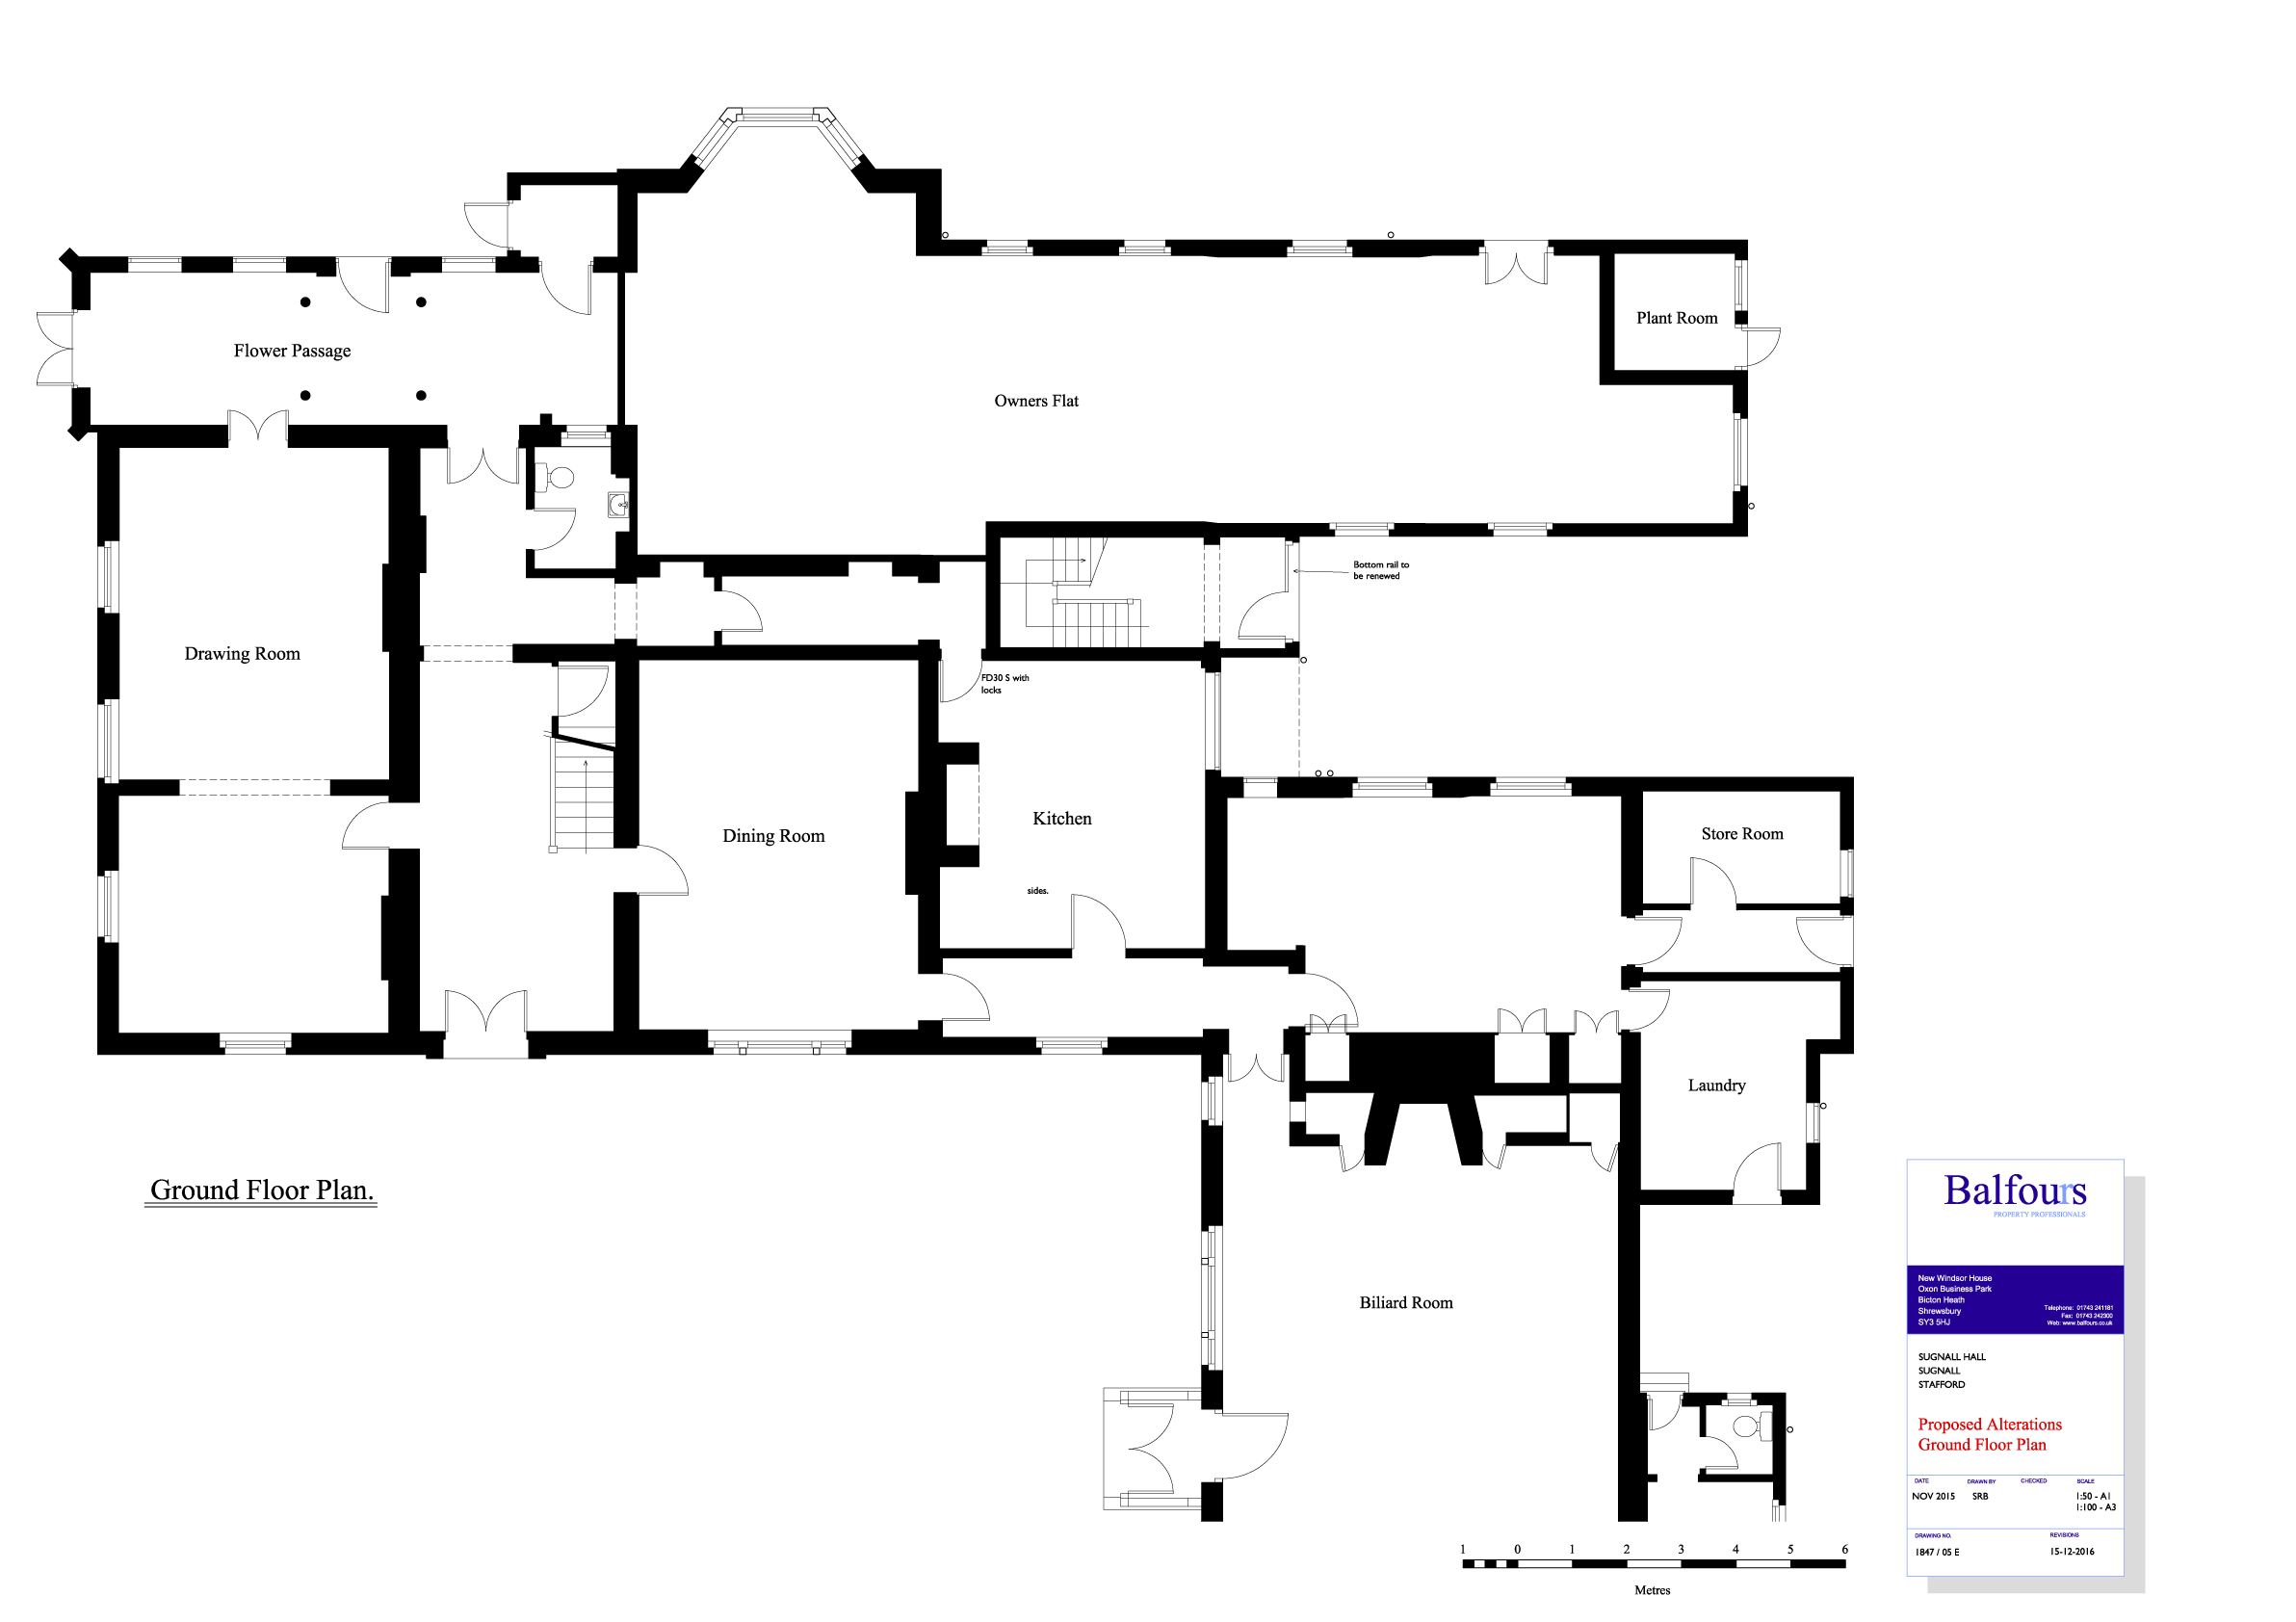wall: (1620, 1029, 1647, 1517), (386, 430, 411, 793), (1561, 772, 1862, 799), (384, 853, 420, 1051), (918, 642, 937, 972), (525, 1030, 718, 1062), (853, 1030, 1044, 1062), (983, 644, 1223, 669), (987, 516, 1227, 541), (1625, 967, 1855, 992), (1206, 772, 1232, 964), (1545, 516, 1747, 539), (1548, 237, 1747, 260), (704, 548, 850, 578), (293, 421, 444, 449), (93, 425, 130, 537), (1615, 772, 1645, 911), (916, 939, 1073, 965), (1166, 232, 1292, 263), (607, 425, 646, 525), (618, 642, 635, 851), (611, 272, 635, 420), (93, 1025, 214, 1055), (916, 156, 951, 258), (1195, 1127, 1229, 1229), (1597, 235, 1618, 391), (516, 642, 641, 669), (616, 895, 635, 1057), (1592, 363, 1748, 383), (611, 177, 644, 265), (293, 1032, 437, 1051), (1427, 772, 1510, 806), (718, 642, 937, 655), (616, 163, 697, 197), (95, 425, 225, 444), (504, 169, 621, 190), (95, 941, 116, 1055), (1617, 1188, 1740, 1206), (95, 779, 118, 872), (1216, 520, 1324, 539), (1341, 239, 1487, 253), (867, 165, 939, 193), (93, 774, 174, 799), (1399, 516, 1490, 537), (904, 843, 976, 869), (1029, 235, 1123, 255), (1109, 1036, 1222, 1051), (1773, 1392, 1789, 1504), (1281, 772, 1353, 797), (1211, 953, 1302, 972), (328, 781, 425, 799), (70, 248, 128, 276), (1506, 1130, 1585, 1150), (909, 233, 987, 253), (65, 251, 93, 304), (1799, 1043, 1824, 1102), (925, 739, 978, 765), (1213, 644, 1301, 660), (390, 253, 442, 279), (521, 567, 621, 579), (283, 253, 335, 276), (181, 251, 232, 274), (1127, 946, 1206, 960), (618, 532, 641, 579), (1808, 1143, 1826, 1202), (899, 558, 948, 579), (1206, 1027, 1225, 1076), (635, 648, 725, 658), (1204, 1364, 1225, 1408), (520, 423, 563, 444), (499, 251, 539, 274), (634, 551, 665, 578), (525, 444, 535, 511), (1553, 1032, 1566, 1088), (1202, 1482, 1220, 1518), (1785, 1188, 1822, 1206), (1733, 370, 1747, 414), (1287, 1136, 1341, 1146), (1561, 1083, 1571, 1130), (1566, 1083, 1622, 1092), (1843, 974, 1850, 1043), (523, 549, 539, 579), (1805, 1044, 1859, 1050)
